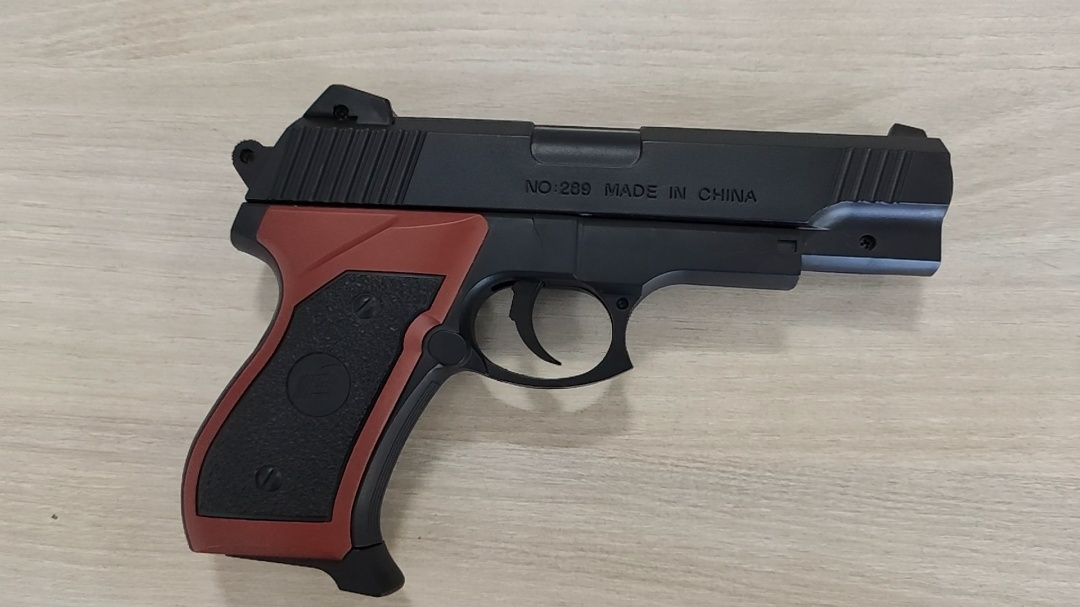gun: (177, 79, 959, 601)
